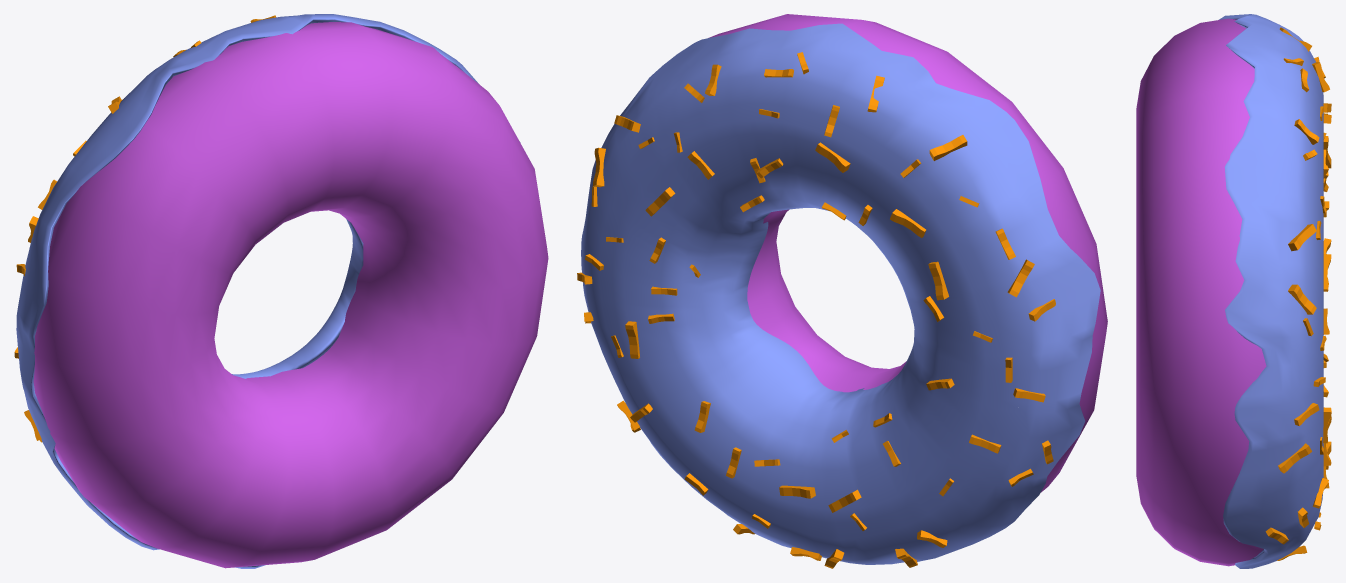
File: Donuts_mor_rootss139.fbx
3 renders of one model, left to right at view 1: azimuth 30°, elevation 25°; view 2: azimuth 150°, elevation 25°; view 3: azimuth 270°, elevation 25°, orthographic. The views are drawn at different scales.
Visible parts, largest first — view 1: Donuts_mor_sh_79, Donuts_mor_sh_83, Donuts_mor_sh_63, Donuts_mor_sh_85, Donuts_mor_sh_58, Donuts_mor_sh_66, Donuts_mor_sh_81, Donuts_mor_sh_65, Donuts_mor_sh_70, Donuts_mor_sh_74, Donuts_mor_sh_41, Donuts_mor_sh_71 (+14 smaller); view 2: Donuts_mor_sh_41, Donuts_mor_sh_49, Donuts_mor_sh_52, Donuts_mor_sh_48, Donuts_mor_sh_31, Donuts_mor_sh_36, Donuts_mor_sh_37, Donuts_mor_sh_50, Donuts_mor_sh_32, Donuts_mor_sh_35, Donuts_mor_sh_34, Donuts_mor_sh_38 (+18 smaller); view 3: Donuts_mor_sh_72, Donuts_mor_sh_58, Donuts_mor_sh_46, Donuts_mor_sh_77, Donuts_mor_sh_66, Donuts_mor_sh_44, Donuts_mor_sh_76, Donuts_mor_sh_42, Donuts_mor_sh_39, Donuts_mor_sh_32, Donuts_mor_sh_75, Donuts_mor_sh_61 (+15 smaller).
Part boxes in pixels (left/top/right/bottom): Donuts_mor_sh_79: left=228, top=364, right=428, bottom=567; Donuts_mor_sh_83: left=33, top=239, right=250, bottom=407; Donuts_mor_sh_63: left=33, top=329, right=276, bottom=507; Donuts_mor_sh_85: left=323, top=238, right=452, bottom=459; Donuts_mor_sh_58: left=263, top=22, right=443, bottom=169; Donuts_mor_sh_66: left=446, top=217, right=547, bottom=451; Donuts_mor_sh_81: left=192, top=103, right=342, bottom=249; Donuts_mor_sh_65: left=322, top=109, right=483, bottom=252; Donuts_mor_sh_70: left=88, top=117, right=204, bottom=277; Donuts_mor_sh_74: left=45, top=420, right=242, bottom=568; Donuts_mor_sh_41: left=16, top=128, right=101, bottom=380; Donuts_mor_sh_71: left=34, top=174, right=95, bottom=361; Donuts_mor_sh_41: left=963, top=155, right=1100, bottom=409; Donuts_mor_sh_49: left=632, top=304, right=814, bottom=475; Donuts_mor_sh_52: left=812, top=146, right=987, bottom=392; Donuts_mor_sh_48: left=800, top=374, right=933, bottom=564; Donuts_mor_sh_31: left=900, top=428, right=1049, bottom=557; Donuts_mor_sh_36: left=738, top=37, right=857, bottom=206; Donuts_mor_sh_37: left=652, top=139, right=777, bottom=266; Donuts_mor_sh_50: left=724, top=462, right=893, bottom=564; Donuts_mor_sh_32: left=686, top=28, right=802, bottom=148; Donuts_mor_sh_35: left=883, top=343, right=1082, bottom=459; Donuts_mor_sh_34: left=583, top=260, right=748, bottom=380; Donuts_mor_sh_38: left=846, top=93, right=994, bottom=171; Donuts_mor_sh_72: left=1136, top=224, right=1244, bottom=347; Donuts_mor_sh_58: left=1136, top=35, right=1254, bottom=169; Donuts_mor_sh_46: left=1234, top=261, right=1323, bottom=441; Donuts_mor_sh_77: left=1149, top=334, right=1266, bottom=442; Donuts_mor_sh_66: left=1136, top=290, right=1204, bottom=517; Donuts_mor_sh_44: left=1223, top=430, right=1320, bottom=544; Donuts_mor_sh_76: left=1147, top=142, right=1242, bottom=243; Donuts_mor_sh_42: left=1225, top=221, right=1323, bottom=333; Donuts_mor_sh_39: left=1225, top=134, right=1322, bottom=236; Donuts_mor_sh_32: left=1243, top=58, right=1323, bottom=191; Donuts_mor_sh_75: left=1180, top=447, right=1248, bottom=537; Donuts_mor_sh_61: left=1138, top=488, right=1263, bottom=564.
Size of the model in its own units: 1287 by 1288 by 452.
2 materials, 1 textured.
